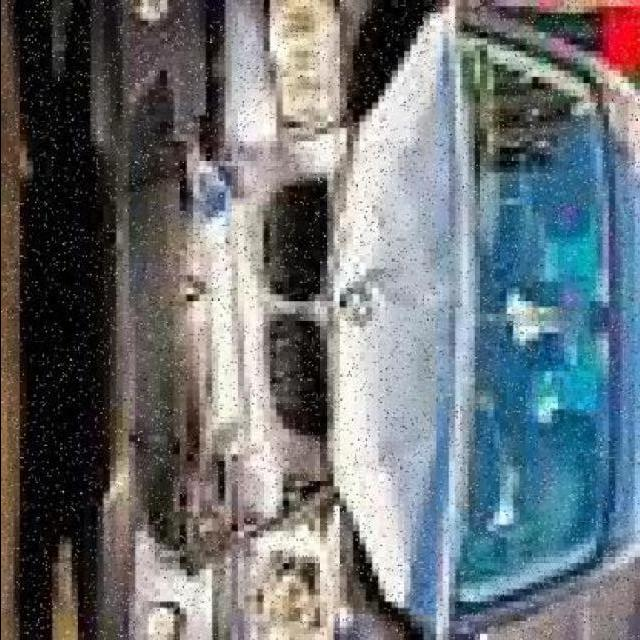Headlight-Damage: (205, 512, 352, 634)
bonnet-dent: (327, 0, 468, 634)
front-bumper-dent: (90, 0, 263, 320)
